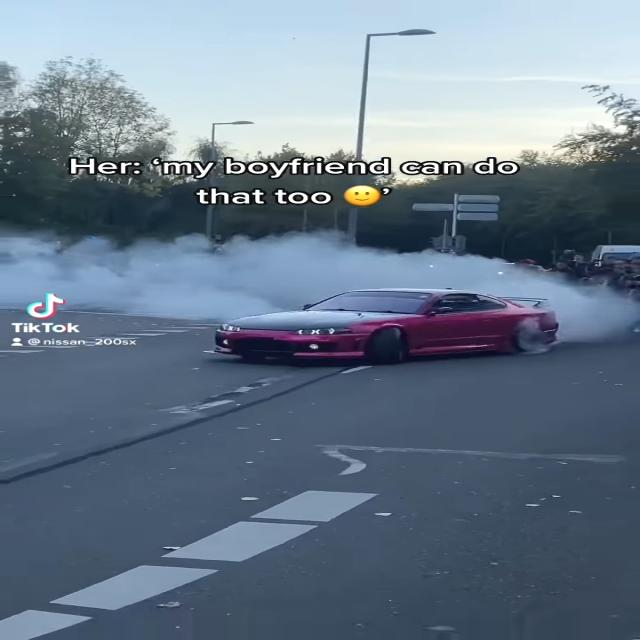car: (219, 289, 564, 369)
